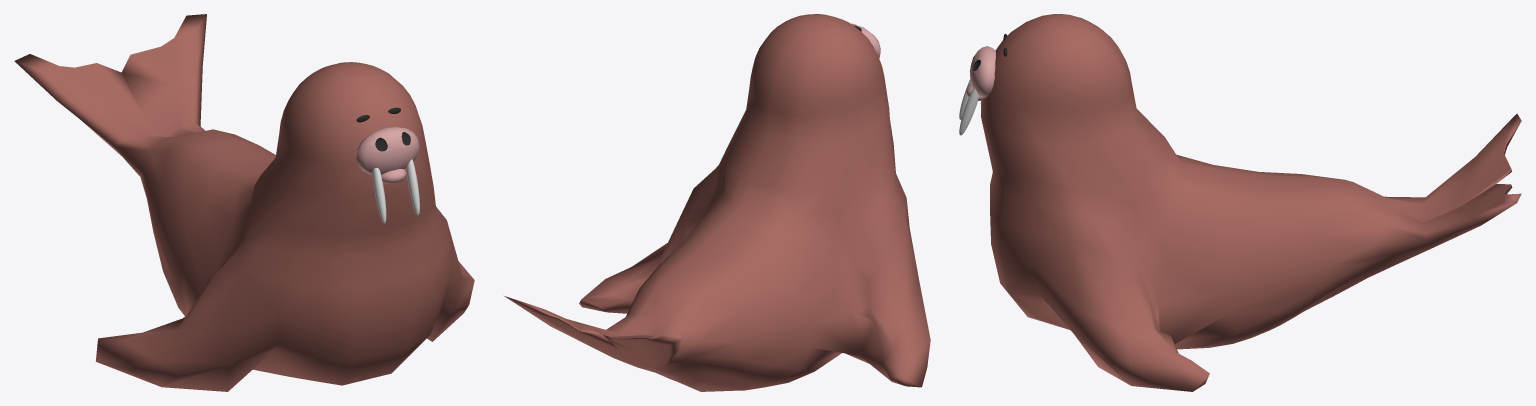
The model's file is Walrus.fbx.
The picture shows the model from 3 angles, left to right: view 1: azimuth 30°, elevation 25°; view 2: azimuth 150°, elevation 25°; view 3: azimuth 270°, elevation 25°; orthographic projection. The views are drawn at different scales.
Parts seen in each view (by area): view 1: pasted__pasted__polySurface141; view 2: pasted__pasted__polySurface141; view 3: pasted__pasted__polySurface141.
Boxes of the visible parts, x1,y1,x2,y2 form: pasted__pasted__polySurface141: (14,14,474,391); pasted__pasted__polySurface141: (504,14,930,391); pasted__pasted__polySurface141: (959,14,1521,391).
Size of the model in its own units: 6.08 by 5.16 by 8.39.
